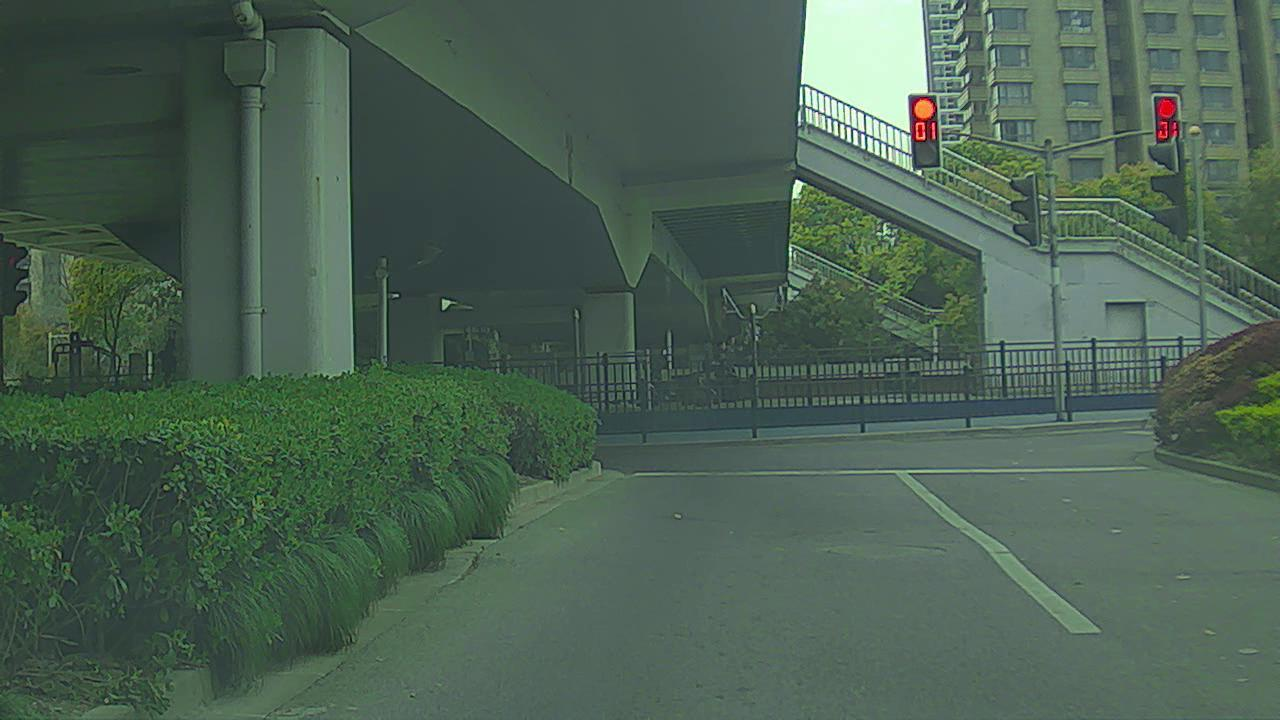traffic_light: (908, 91, 941, 165), (1154, 93, 1183, 147)
